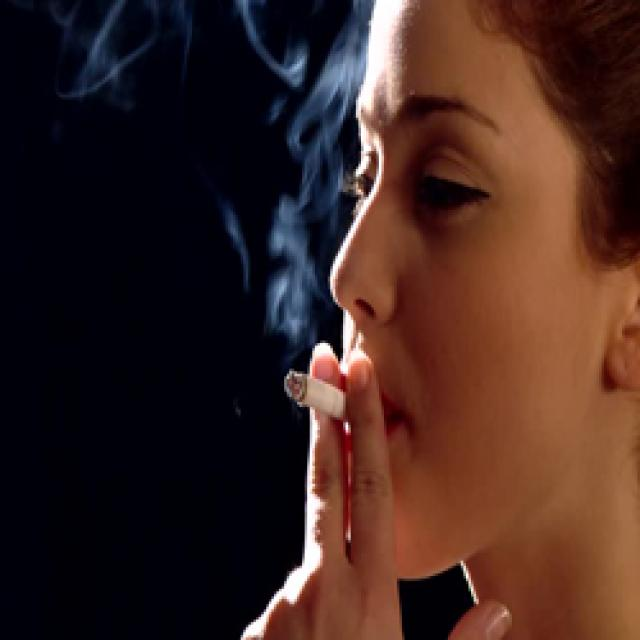Smooking: (263, 368, 354, 436)
